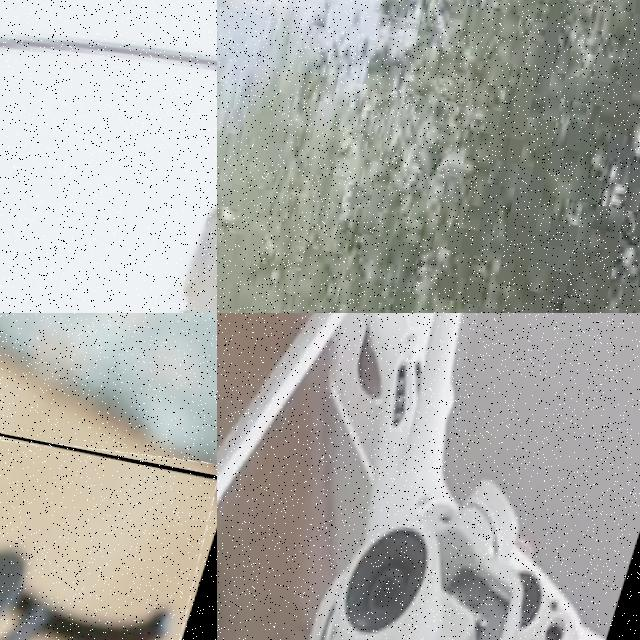drone: (217, 313, 640, 640), (0, 0, 217, 313), (0, 356, 217, 640)
